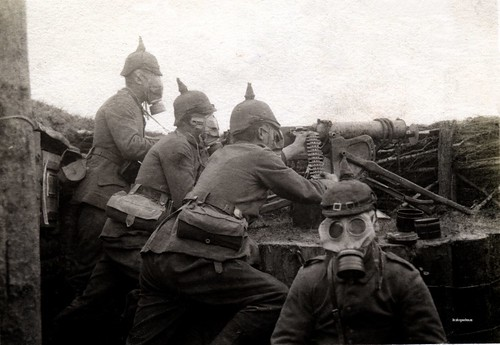sky: (54, 1, 469, 113)
soldier: (141, 100, 289, 340), (278, 178, 450, 345), (92, 86, 228, 291), (55, 41, 167, 270)
weapon: (293, 109, 433, 208)
